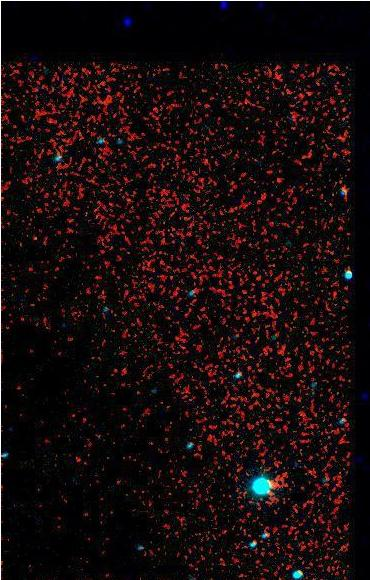star: (22, 221, 52, 251)
